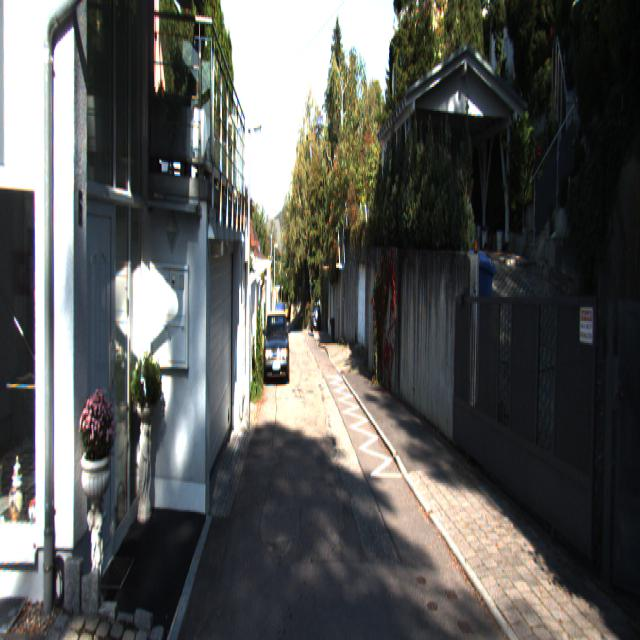Car: (263, 309, 289, 387)
